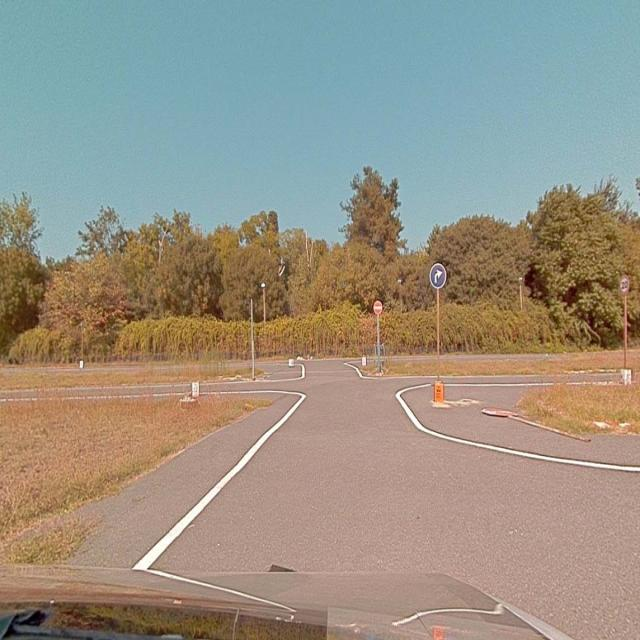20: (620, 276, 629, 294)
girisyok: (373, 300, 382, 314)
sag: (430, 265, 444, 287)
